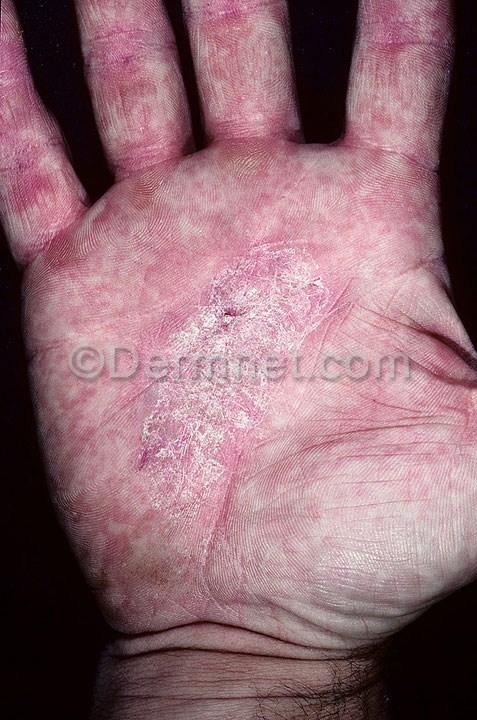Eczema: (102, 153, 463, 311), (22, 263, 178, 573), (182, 238, 339, 529), (362, 320, 477, 543), (342, 0, 459, 182), (0, 3, 84, 255), (77, 0, 192, 170), (99, 539, 327, 623), (195, 0, 313, 150)
